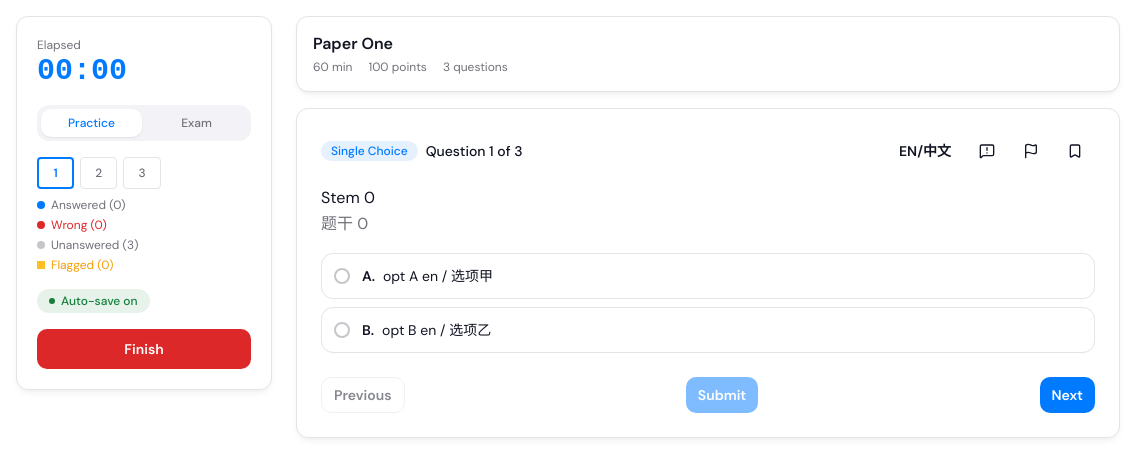
Test: <PaperPlayer> mode switch (FR-PAPER-11) › shows switch failures inline without routing
The image size is (1137, 457).
Click the button "Exam" at {"x": 196, "y": 123}, box 146,109 -> 247,137
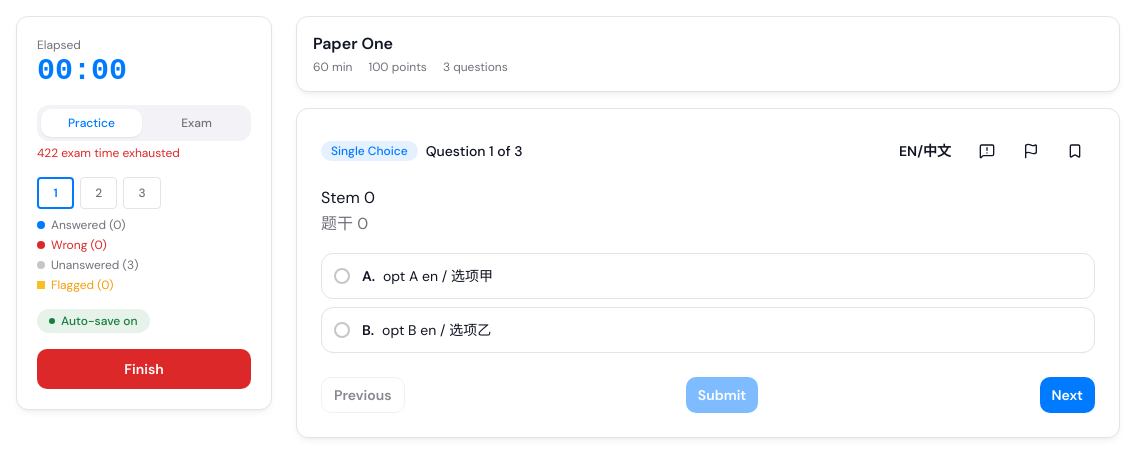
Now the text "422 exam time exhausted" is shown, box 37,145 -> 180,161
